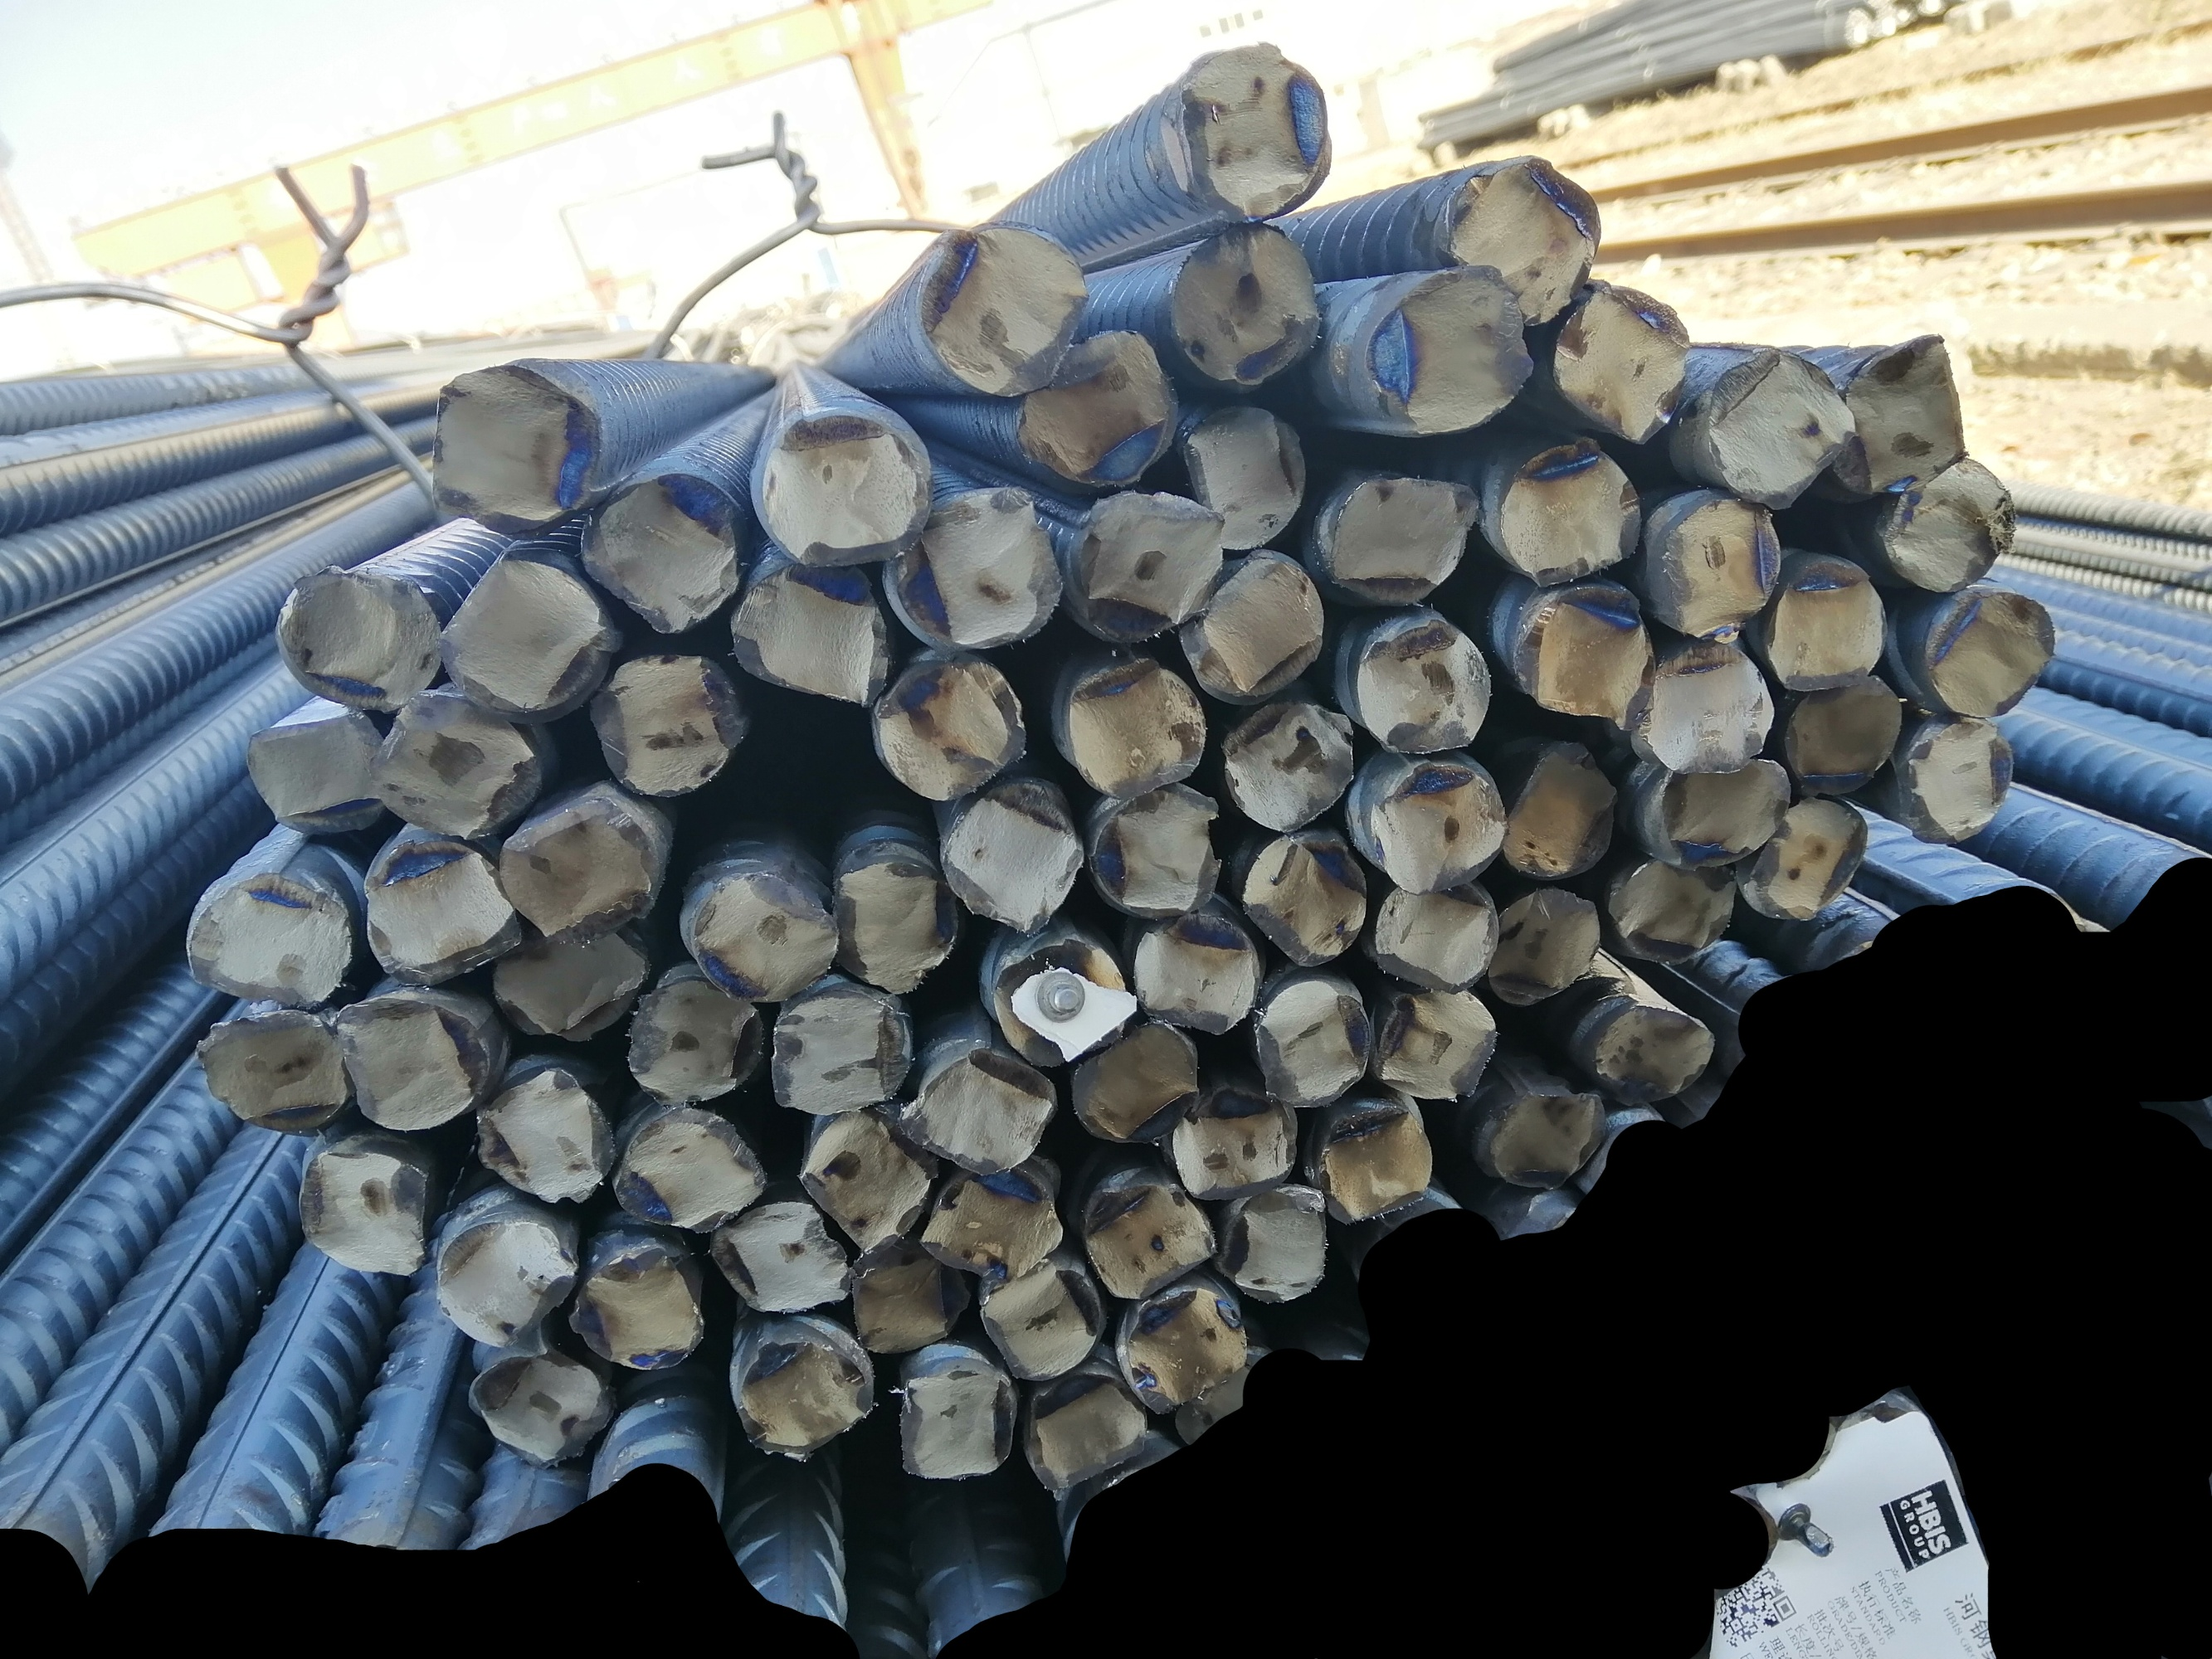rebar: (1157, 35, 1342, 230), (915, 216, 1091, 401), (746, 403, 936, 572), (425, 361, 605, 538), (432, 552, 619, 723), (882, 484, 1065, 657), (1365, 261, 1539, 439), (573, 469, 755, 638), (1163, 216, 1330, 394), (1056, 484, 1232, 650), (1447, 153, 1605, 331), (267, 558, 441, 718), (1016, 326, 1182, 493), (361, 692, 546, 842), (183, 864, 363, 1014), (495, 798, 669, 948), (1173, 544, 1328, 709), (1705, 345, 1858, 512), (866, 653, 1032, 807), (586, 650, 751, 800), (1551, 279, 1696, 450), (933, 788, 1093, 941), (361, 840, 526, 988), (730, 561, 894, 709), (725, 1310, 877, 1464), (1499, 434, 1645, 592), (328, 997, 493, 1134), (1510, 582, 1659, 732), (188, 1007, 356, 1141), (795, 1105, 940, 1260), (1063, 653, 1208, 809), (1842, 328, 1971, 498), (607, 1105, 770, 1237), (1114, 1277, 1259, 1427), (1325, 472, 1482, 610), (894, 1049, 1060, 1178), (1349, 615, 1496, 760), (471, 1065, 621, 1206), (687, 868, 842, 1004), (1365, 756, 1511, 899), (1652, 490, 1785, 647), (241, 711, 399, 840), (1086, 777, 1231, 918), (293, 1136, 432, 1283), (1630, 640, 1778, 777), (988, 938, 1140, 1072), (1178, 401, 1309, 556), (1217, 695, 1361, 835), (767, 988, 919, 1119), (1079, 1164, 1222, 1302), (1881, 455, 2019, 596), (432, 1220, 580, 1351), (830, 857, 964, 999), (488, 929, 650, 1046), (915, 1166, 1067, 1290), (622, 976, 765, 1107), (565, 1244, 709, 1373), (1238, 829, 1370, 969), (1733, 791, 1870, 924), (1919, 589, 2057, 721), (1126, 910, 1264, 1040), (465, 1352, 617, 1471), (1501, 737, 1621, 882), (1070, 1018, 1204, 1147), (1766, 556, 1890, 695), (706, 1199, 854, 1314), (1658, 755, 1795, 873), (1600, 852, 1741, 967), (1020, 1371, 1150, 1495), (1170, 1080, 1300, 1204), (1250, 978, 1372, 1110), (1780, 673, 1905, 800), (898, 1352, 1020, 1483), (978, 1263, 1109, 1385), (1374, 985, 1504, 1105), (1210, 1180, 1332, 1307), (1483, 885, 1607, 1009), (1370, 873, 1503, 988), (1902, 714, 2015, 847), (847, 1237, 971, 1356), (1590, 999, 1719, 1108), (1320, 1108, 1436, 1229), (1480, 1087, 1612, 1192)
